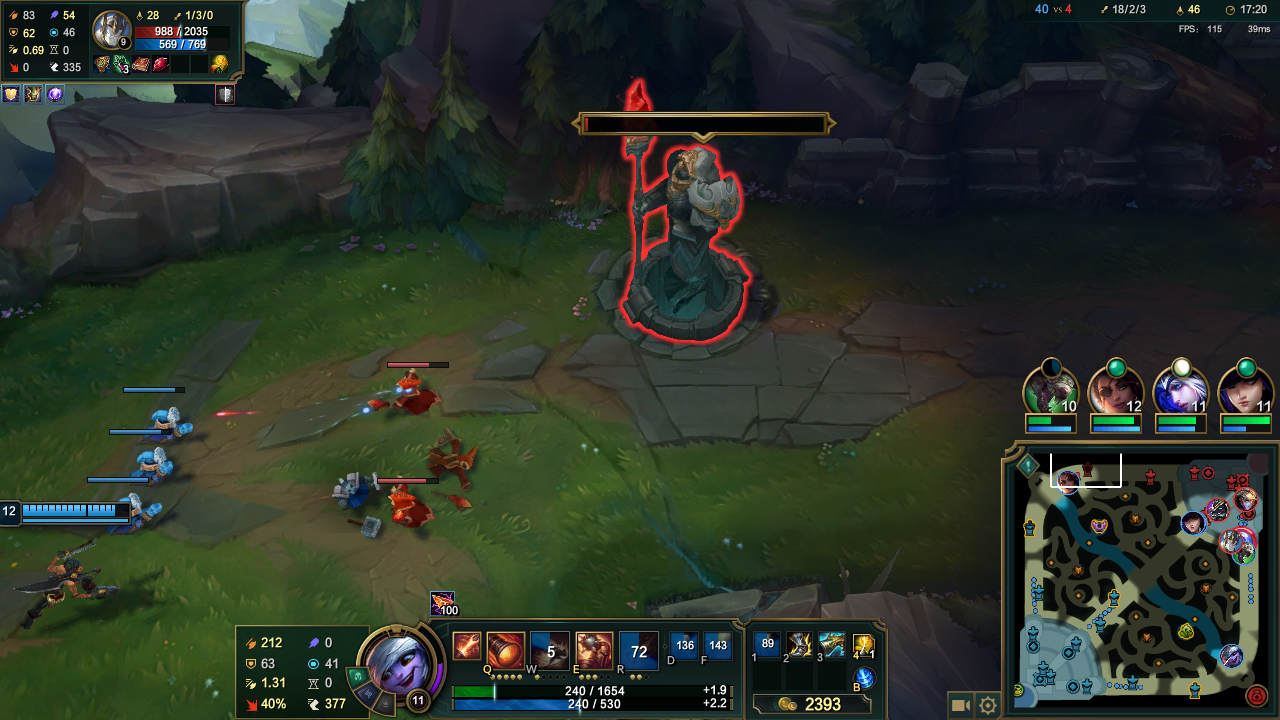DFFYT: (614, 144, 756, 351)
DFXB: (362, 374, 446, 420), (384, 487, 438, 530)
WFXB: (128, 447, 178, 493), (111, 490, 162, 531), (142, 405, 192, 440)
